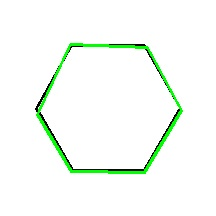line_segment: (35, 44, 182, 173)
